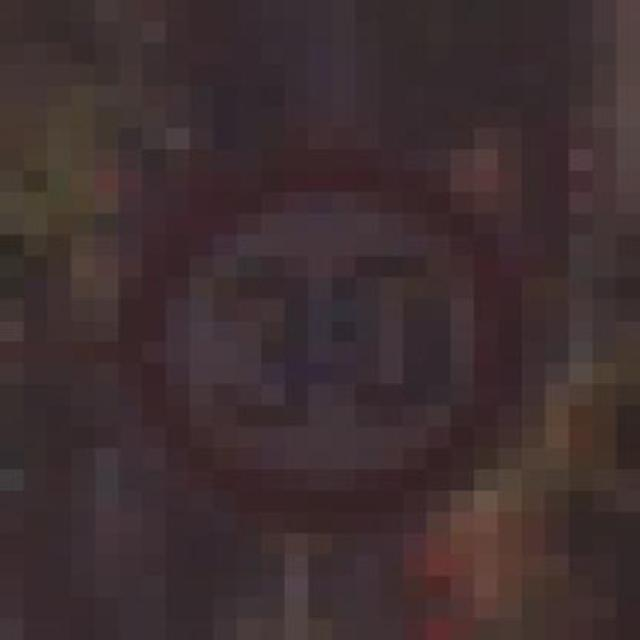Speed Limit 30 KMPh: (47, 128, 593, 534)
